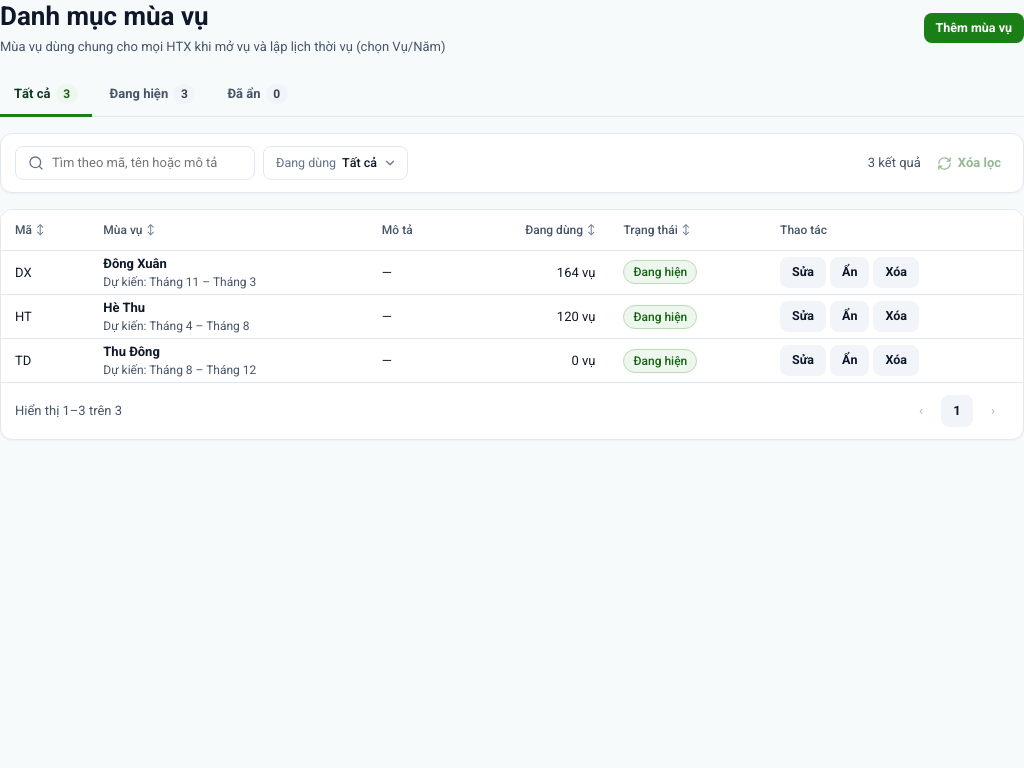
Test case: Màn Danh mục mùa vụ (AH-7) › AC4: xóa mùa vụ chưa dùng ở đâu → biến khỏi danh sách
This screenshot has width=1024, height=768.
Click the button "Thêm mùa vụ" at (974, 28), box [924, 13, 1023, 43]
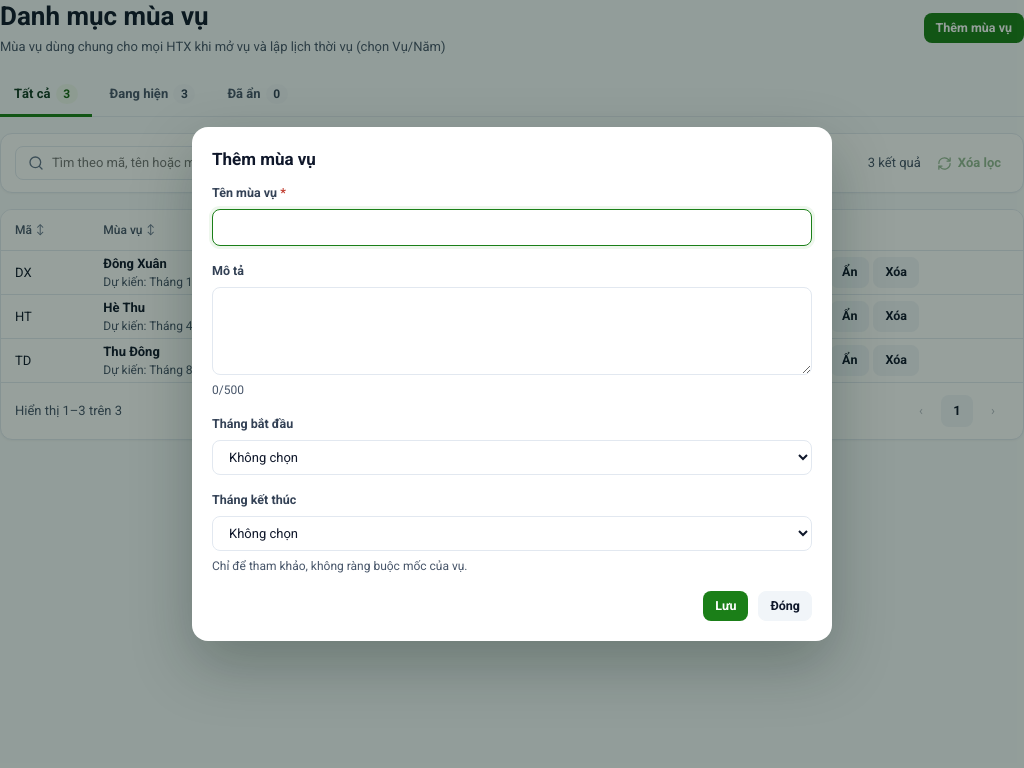
Type "Vụ sẽ xóa" into the field labelled "Tên mùa vụ *" at (512, 228), box [212, 209, 812, 246]
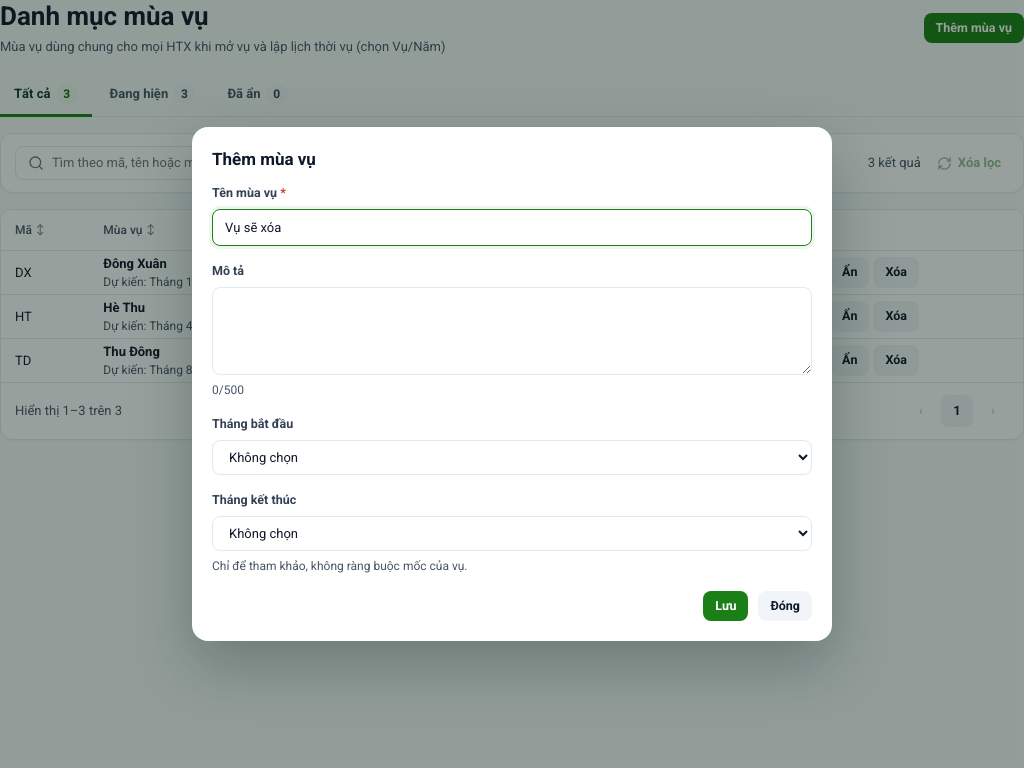
Click the button "Lưu" at (726, 606), box [703, 591, 748, 621]
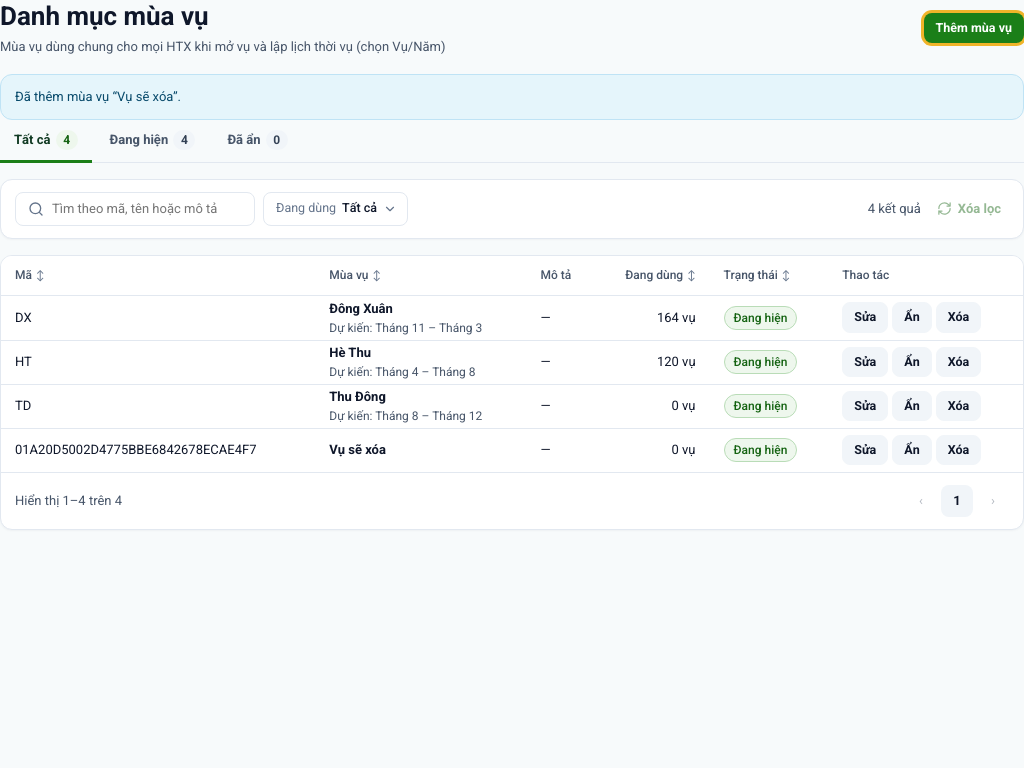
Click the button with aria-label "Xóa Vụ sẽ xóa" at (958, 450), box [936, 435, 981, 465]
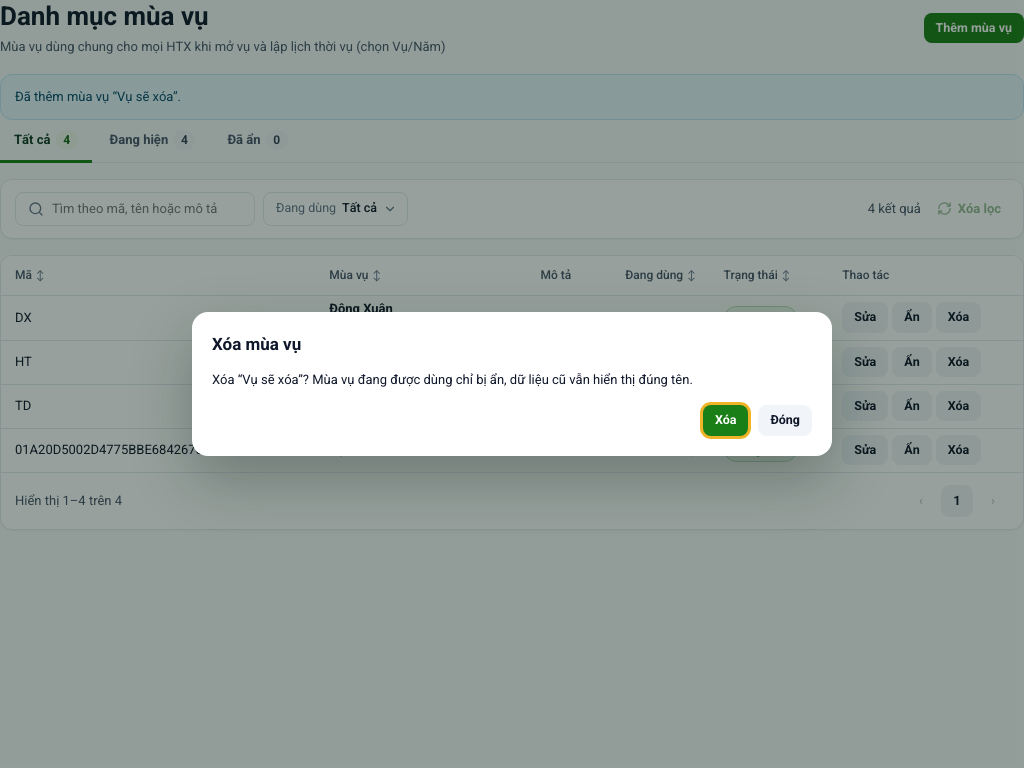
Click the button "Xóa" at (726, 420), box [703, 405, 748, 436]
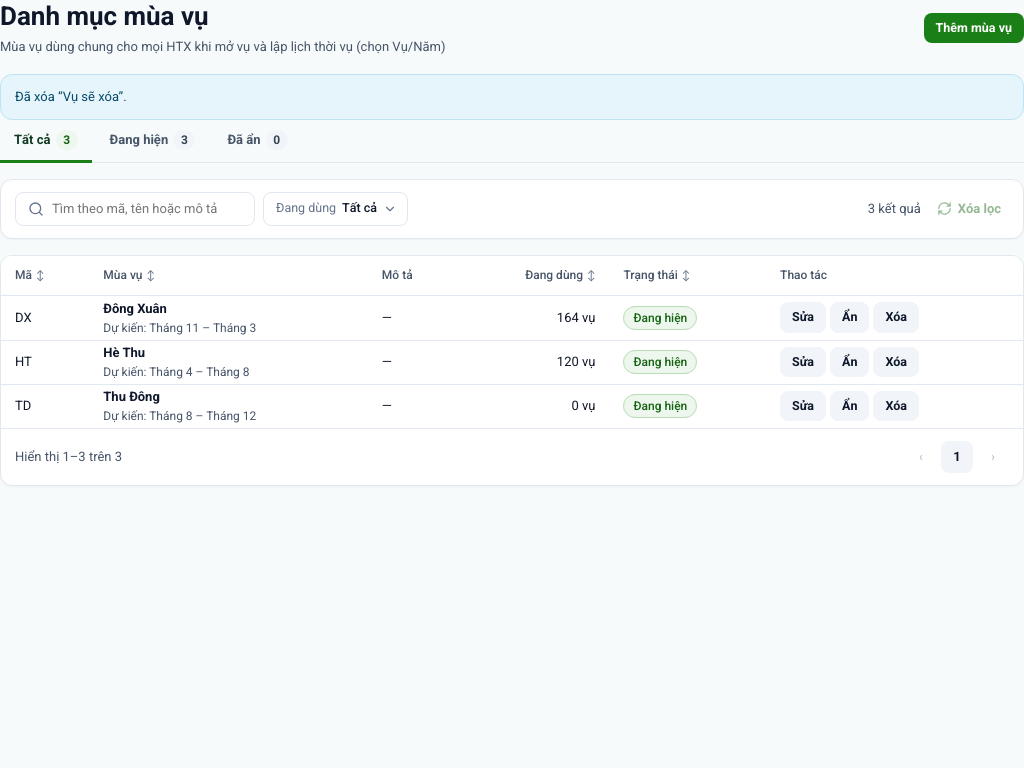
expect the message shows "Đã xóa": met, box [15, 89, 127, 104]
